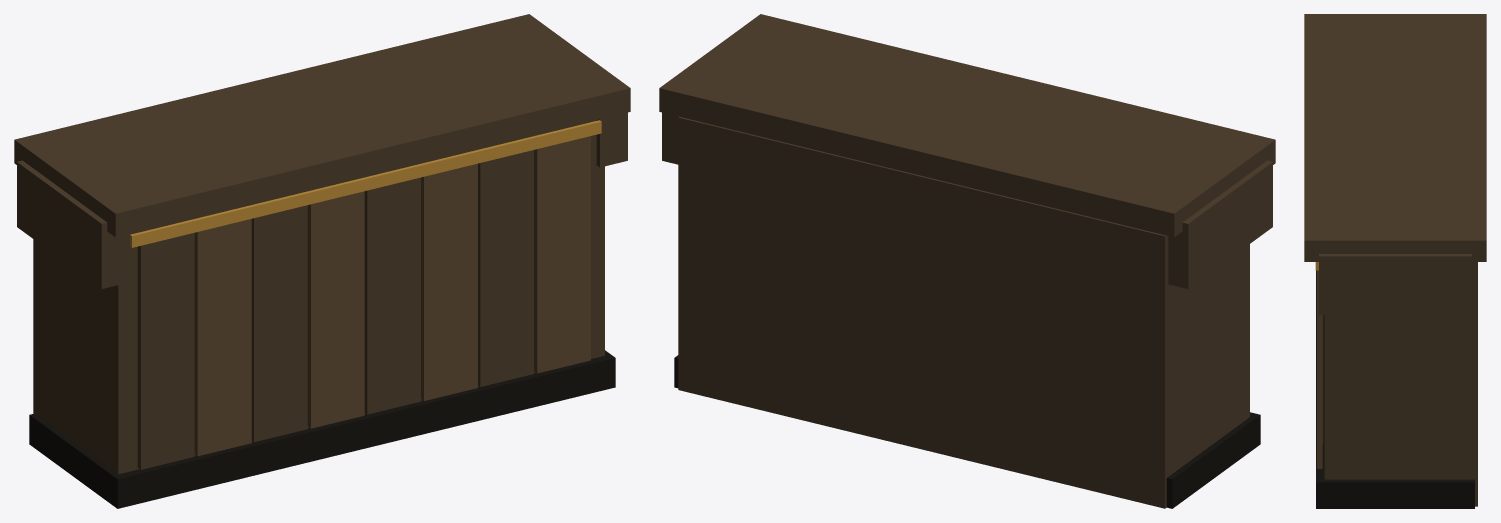
The model's file is MarketCounter.fbx.
3 views of the same model, side by side, from view 1: azimuth 30°, elevation 25°; view 2: azimuth 150°, elevation 25°; view 3: azimuth 270°, elevation 25° (orthographic). The views are drawn at different scales.
Visible parts, largest first — view 1: MarketCounter; view 2: MarketCounter; view 3: MarketCounter.
Part boxes in pixels (x1,y1,x2,y2): MarketCounter: (14,14,630,508); MarketCounter: (659,14,1275,508); MarketCounter: (1304,14,1486,508).
Size of the model in its own units: 186 by 102 by 62.
Materials: 4 (4 with a texture image).
